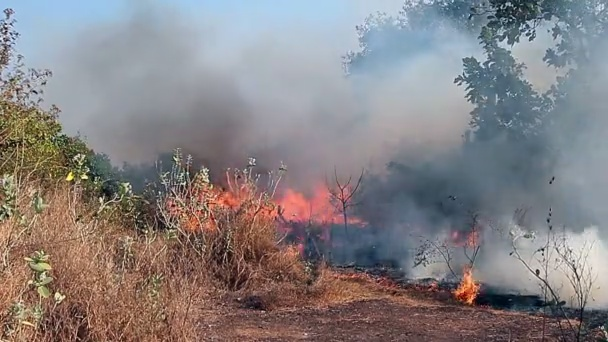fire: (281, 194, 328, 218), (456, 269, 479, 302), (66, 170, 74, 181)
